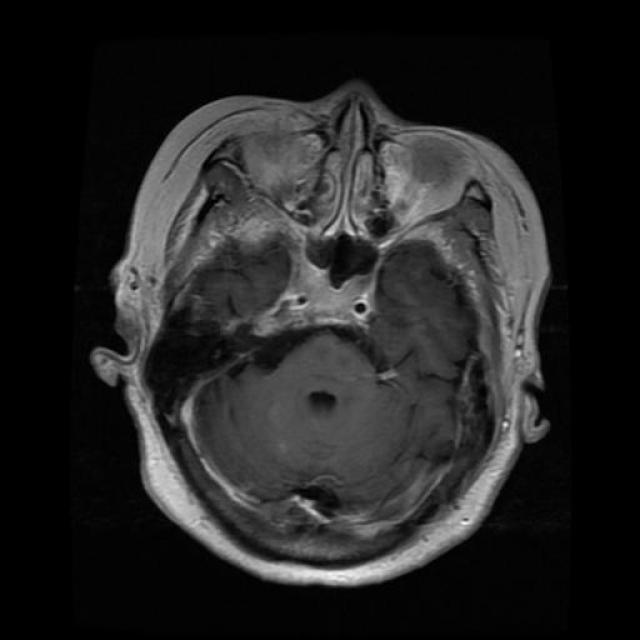Brain-Tumor: (135, 292, 280, 444)
